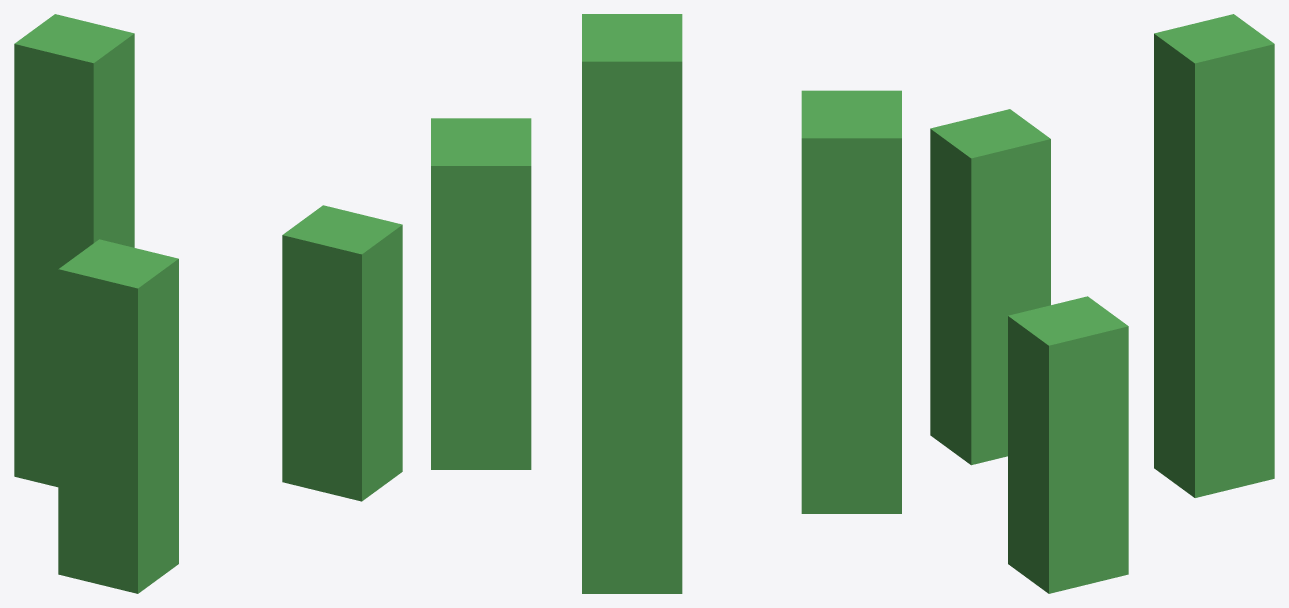
Rendered from Plant_B_02.FBX.
The picture shows the model from 3 angles, left to right: view 1: azimuth 30°, elevation 25°; view 2: azimuth 150°, elevation 25°; view 3: azimuth 270°, elevation 25°; orthographic projection. The views are drawn at different scales.
Parts seen in each view (by area): view 1: Plant_B_02; view 2: Plant_B_02; view 3: Plant_B_02.
Part boxes in pixels (x1,y1,x2,y2): Plant_B_02: (14,14,402,593); Plant_B_02: (431,14,901,593); Plant_B_02: (930,14,1274,593).
Bounding box in the file's own units: 0.3873 × 0.4405 × 0.3165.
